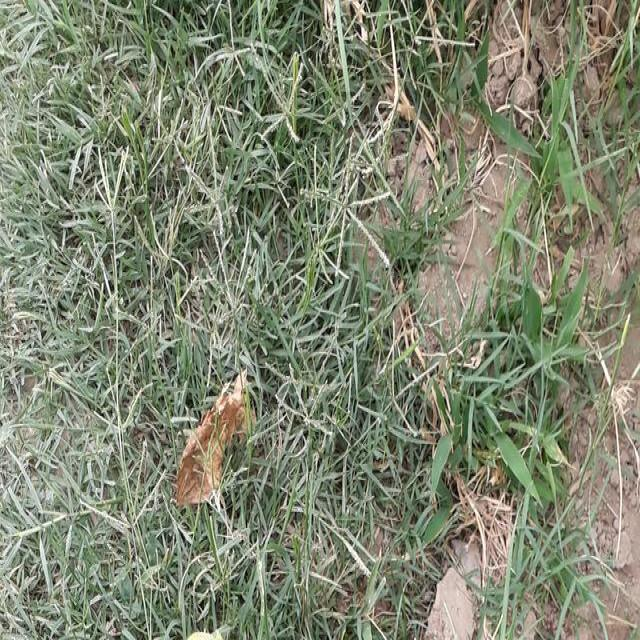weed: (15, 41, 416, 355), (401, 284, 640, 481), (264, 378, 410, 617), (50, 392, 175, 620), (494, 81, 640, 237)
